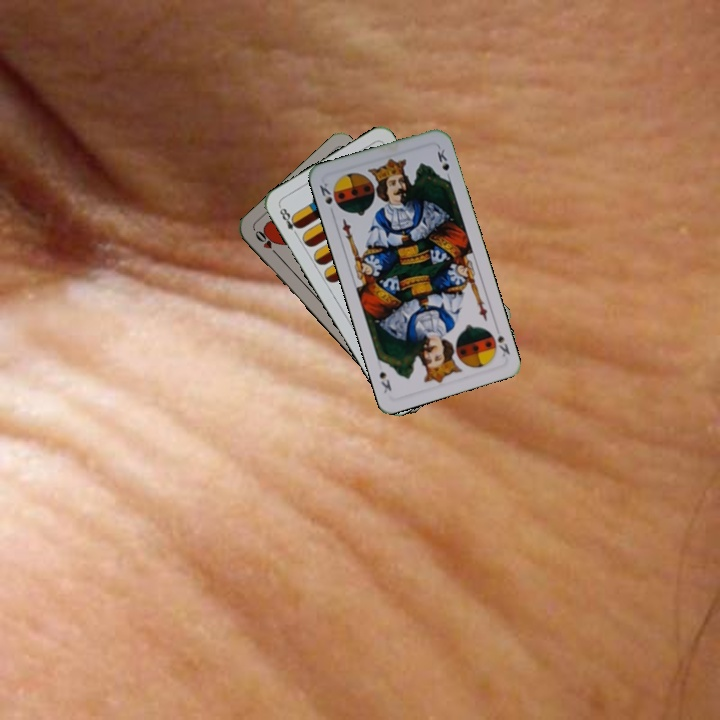E8: (275, 202, 303, 239)
HO: (251, 226, 282, 259)
SK: (491, 322, 513, 359), (315, 179, 335, 207)
